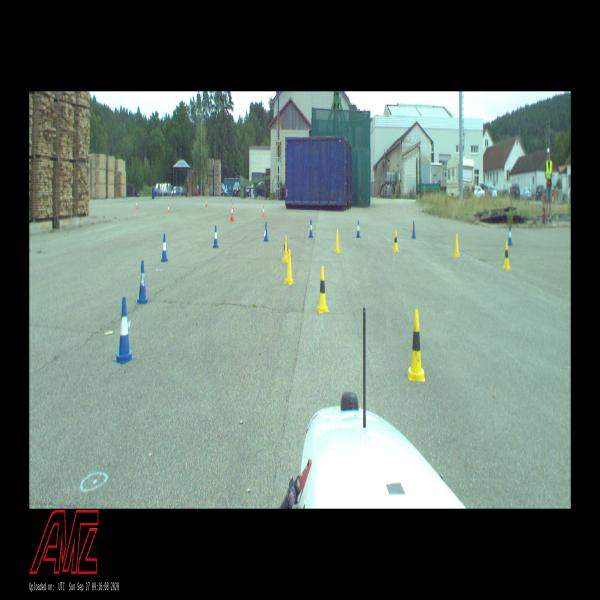blue_cone: (115, 296, 134, 364), (136, 261, 149, 304), (160, 234, 168, 262), (213, 226, 219, 248), (309, 219, 313, 238), (264, 222, 268, 241), (508, 227, 512, 245), (412, 222, 416, 238), (357, 220, 360, 238)
orange_cone: (262, 206, 265, 217), (167, 203, 170, 214), (231, 206, 233, 217), (136, 201, 138, 209), (206, 199, 208, 206), (246, 197, 248, 203)
yellow_cone: (408, 310, 425, 381), (316, 267, 329, 313), (285, 249, 294, 284), (503, 241, 510, 270), (334, 230, 341, 253), (282, 236, 288, 262), (454, 235, 461, 257), (393, 230, 399, 251)
